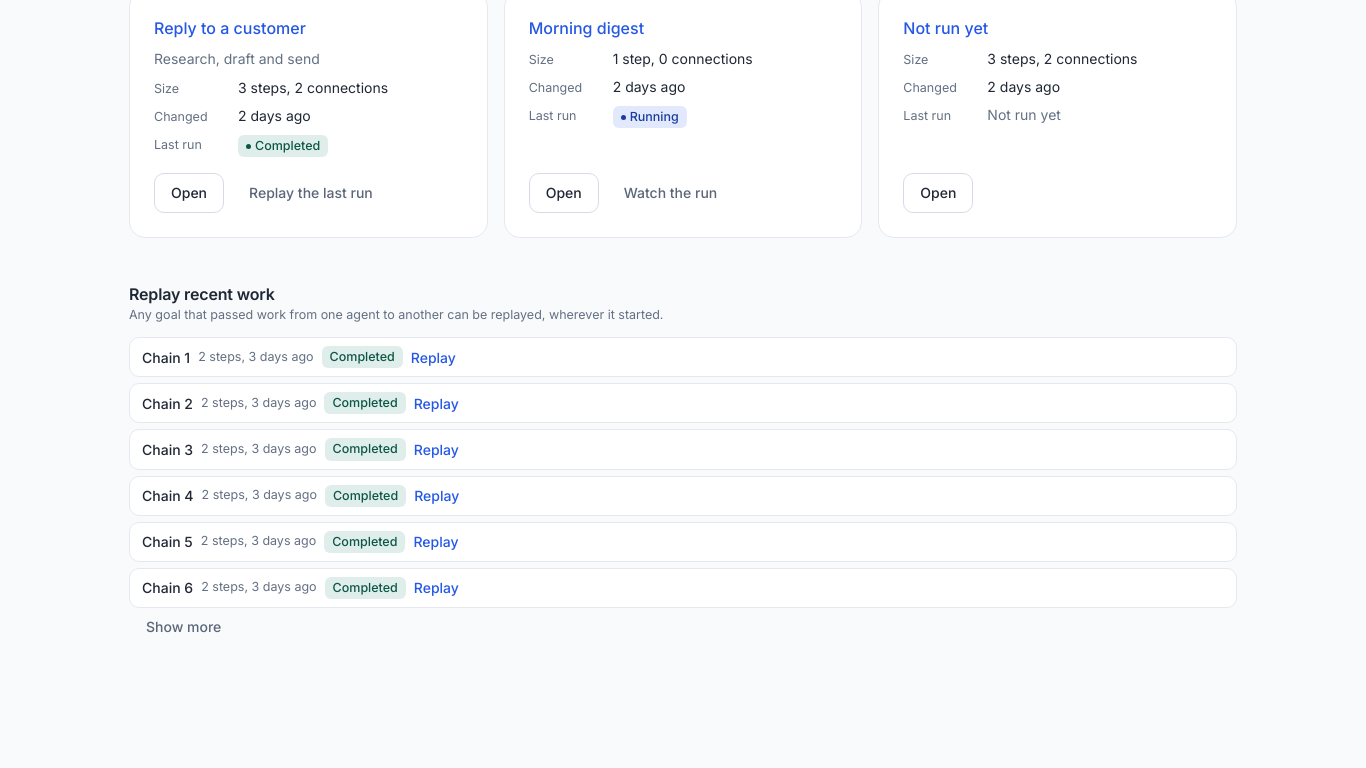
Scenario: Workflows page › shows more replays on request, beyond the first six
(page scrolled)
Check: the link with aria-label "Replay Chain 6" is shown, box [414, 577, 459, 598]
Check: the link "Replay Chain 7" is not shown
Click the button "Show more". click: [184, 628]
box: [129, 608, 238, 648]
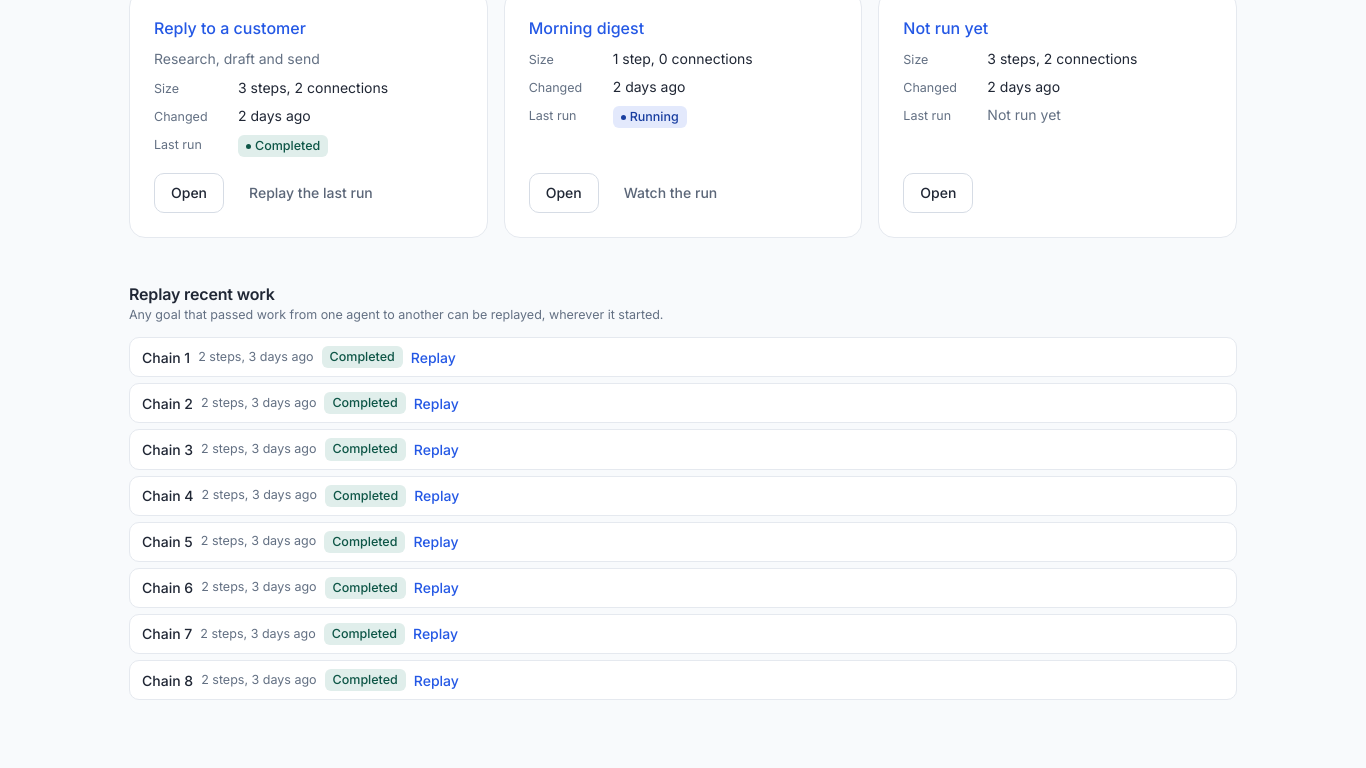
Check: the button "Show more" is gone
